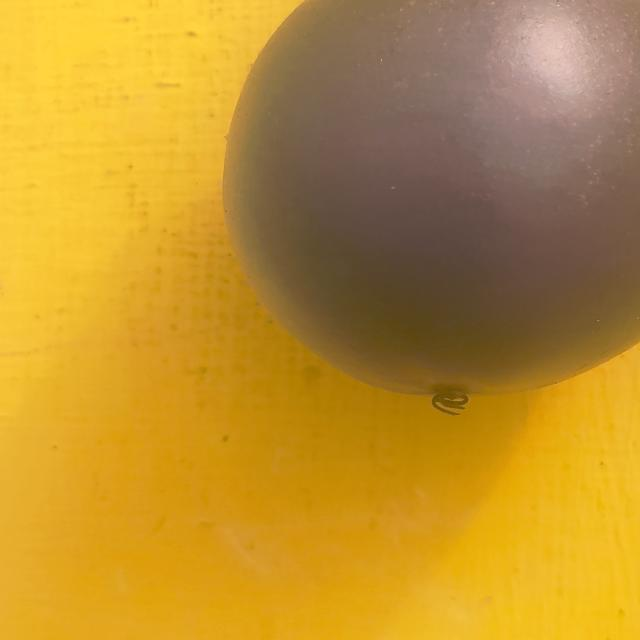Estado-6: (225, 0, 640, 396)
